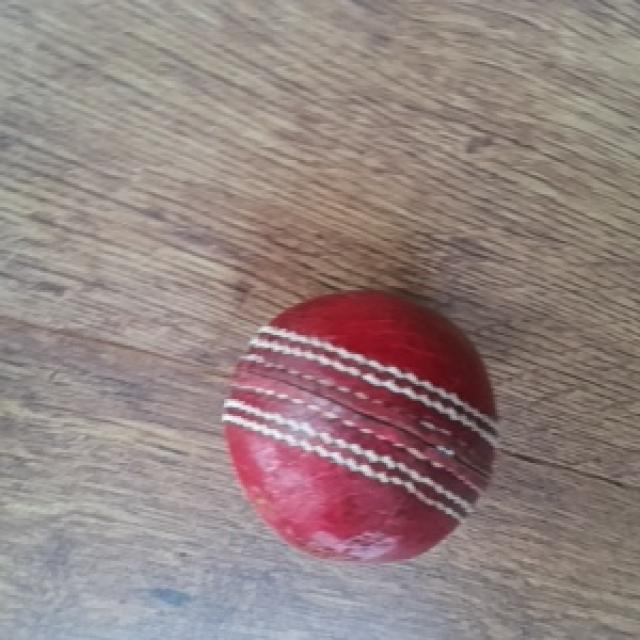ball: (218, 285, 498, 567)
